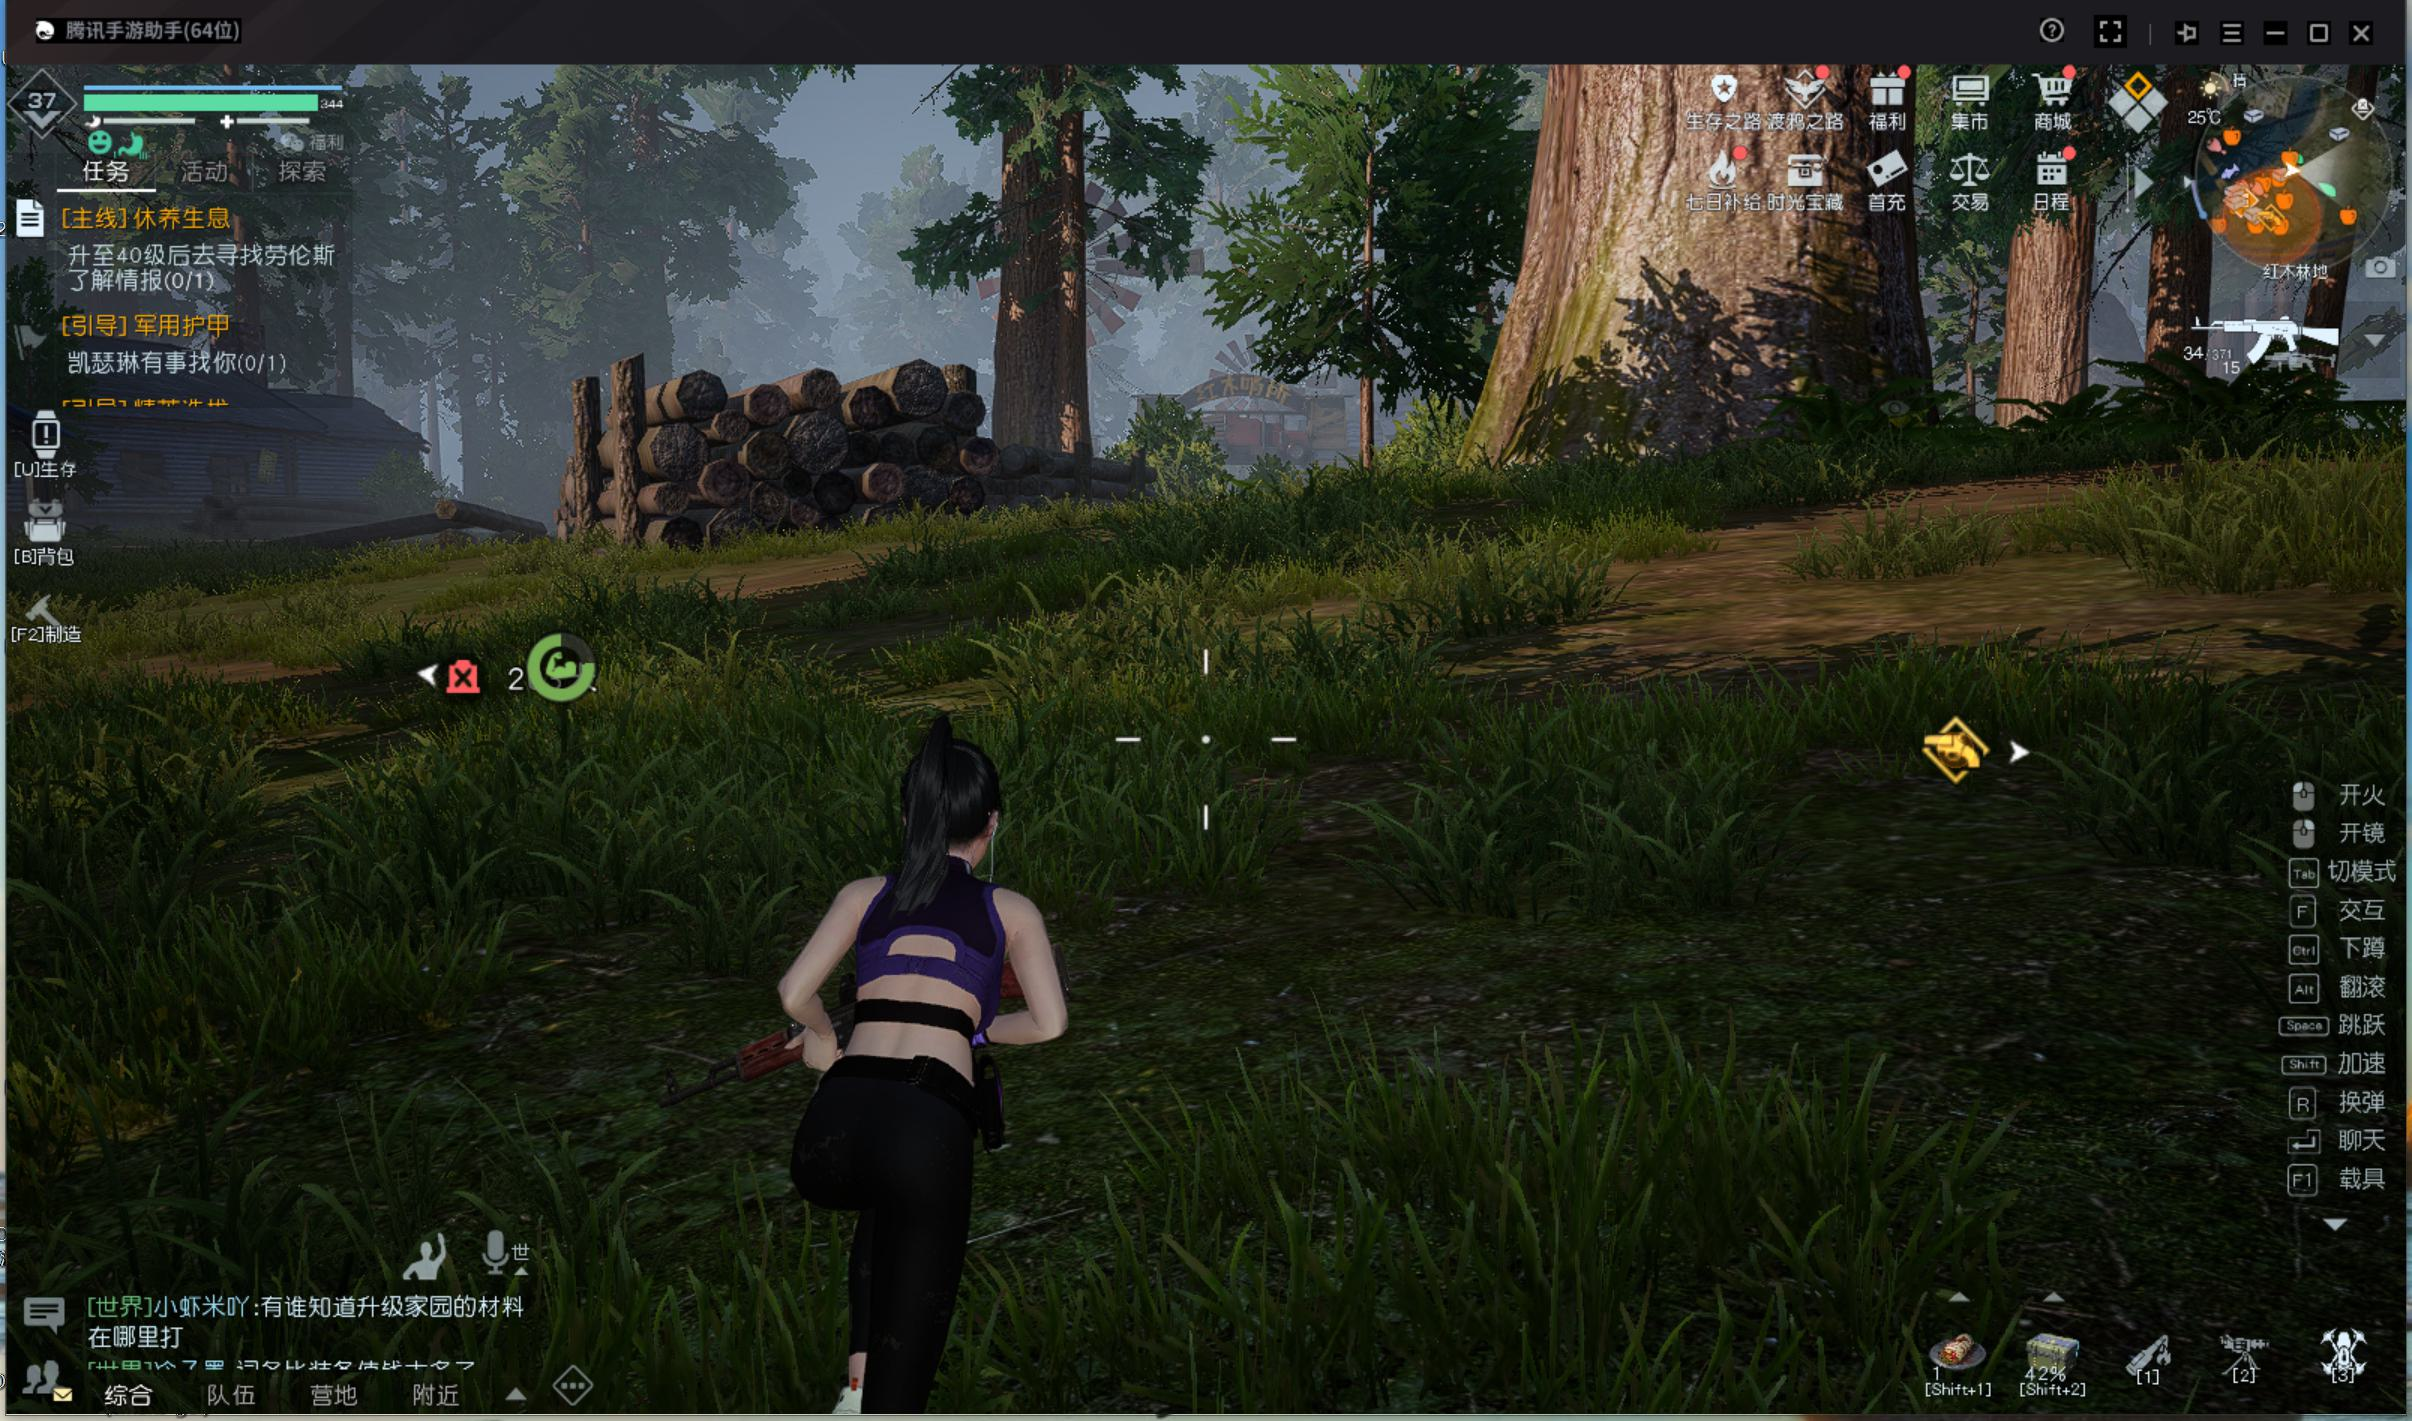tree: (1466, 78, 1933, 479), (1976, 233, 2108, 462), (1045, 152, 1115, 523)
